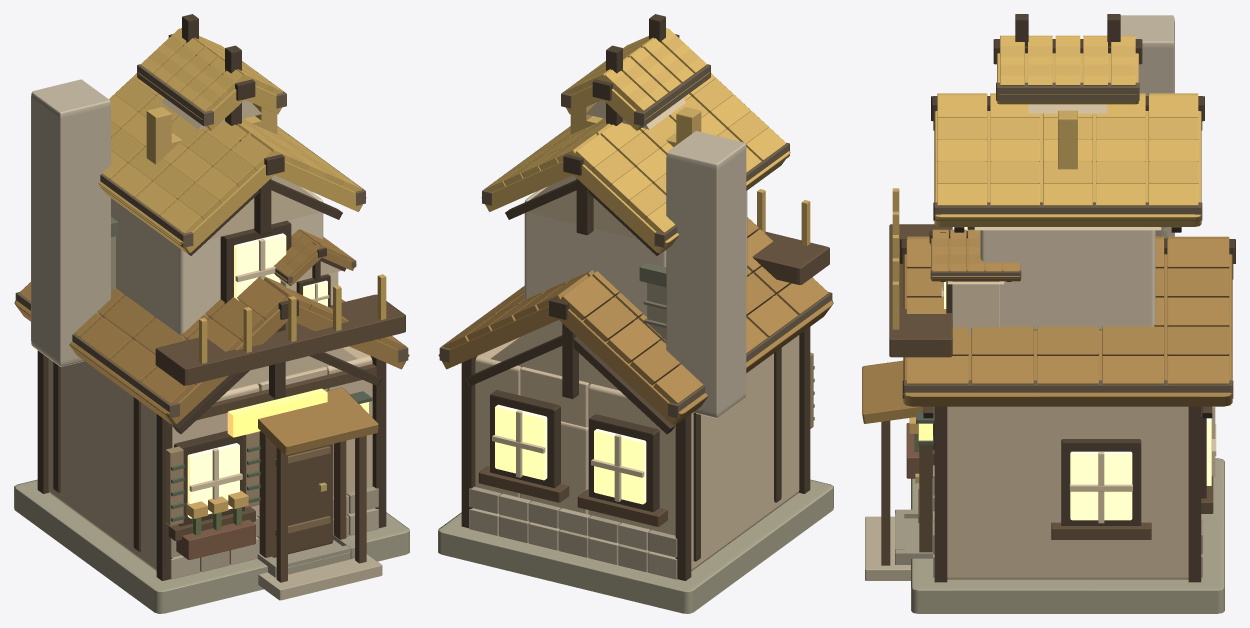
The model's file is workshop-4-3.glb.
3 renders of one model, left to right at view 1: azimuth 30°, elevation 25°; view 2: azimuth 150°, elevation 25°; view 3: azimuth 270°, elevation 25°, orthographic. The views are drawn at different scales.
Parts seen in each view (by area): view 1: workshop-3-4, door-hinge; view 2: workshop-3-4; view 3: workshop-3-4.
Boxes of the visible parts, x1,y1,x2,y2 form: workshop-3-4: (14,14,409,613); door-hinge: (271,442,333,557); workshop-3-4: (438,14,833,613); workshop-3-4: (862,14,1235,613).
Size of the model in its own units: 1.91 by 3.51 by 2.24.
